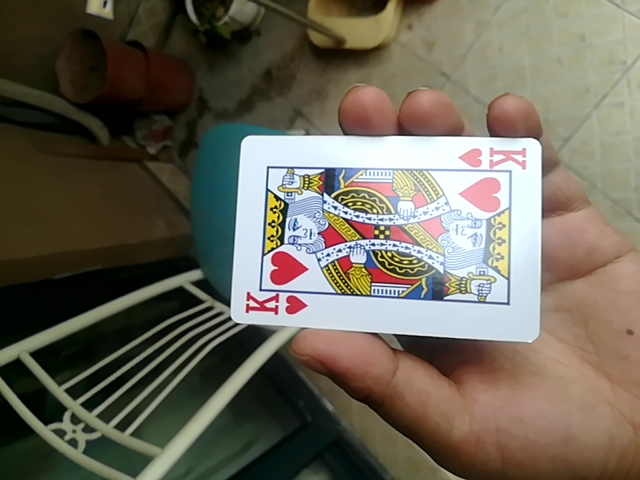hx k: (223, 131, 543, 342)
